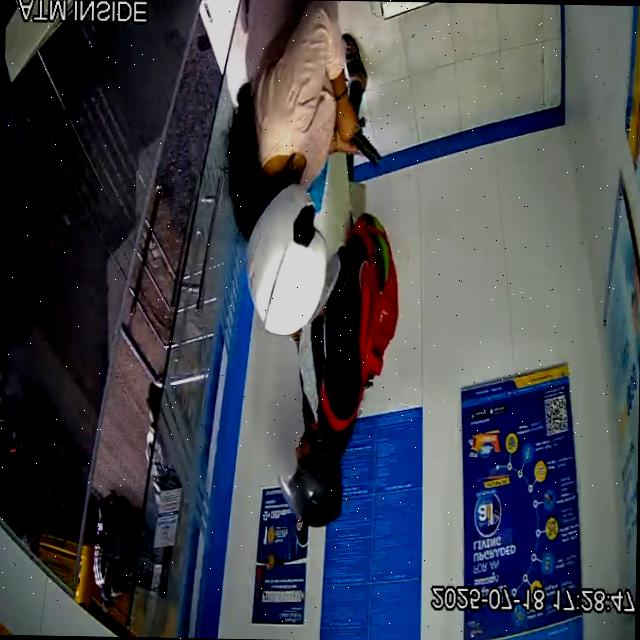helmet: (245, 180, 341, 336), (276, 425, 341, 527)
